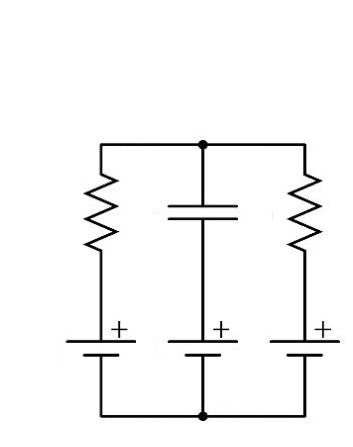resistor: (67, 162, 126, 268), (280, 163, 330, 273)
